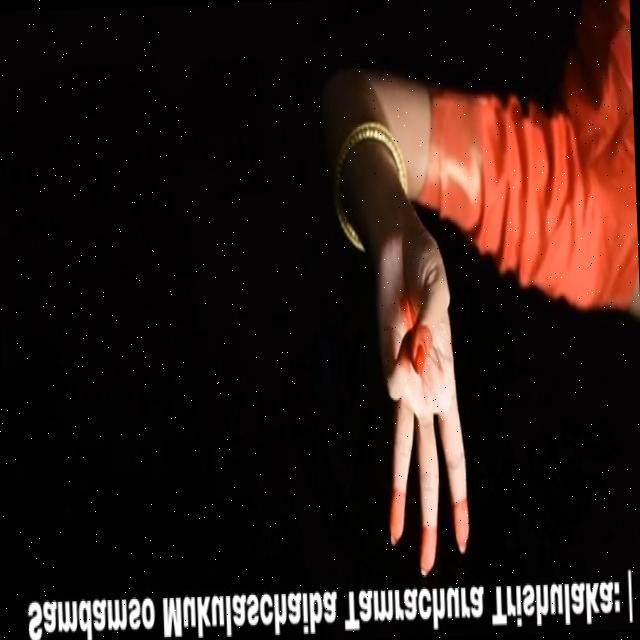Trishula: (354, 206, 485, 574)
bangle: (314, 108, 418, 254)
text: (17, 565, 640, 640)
